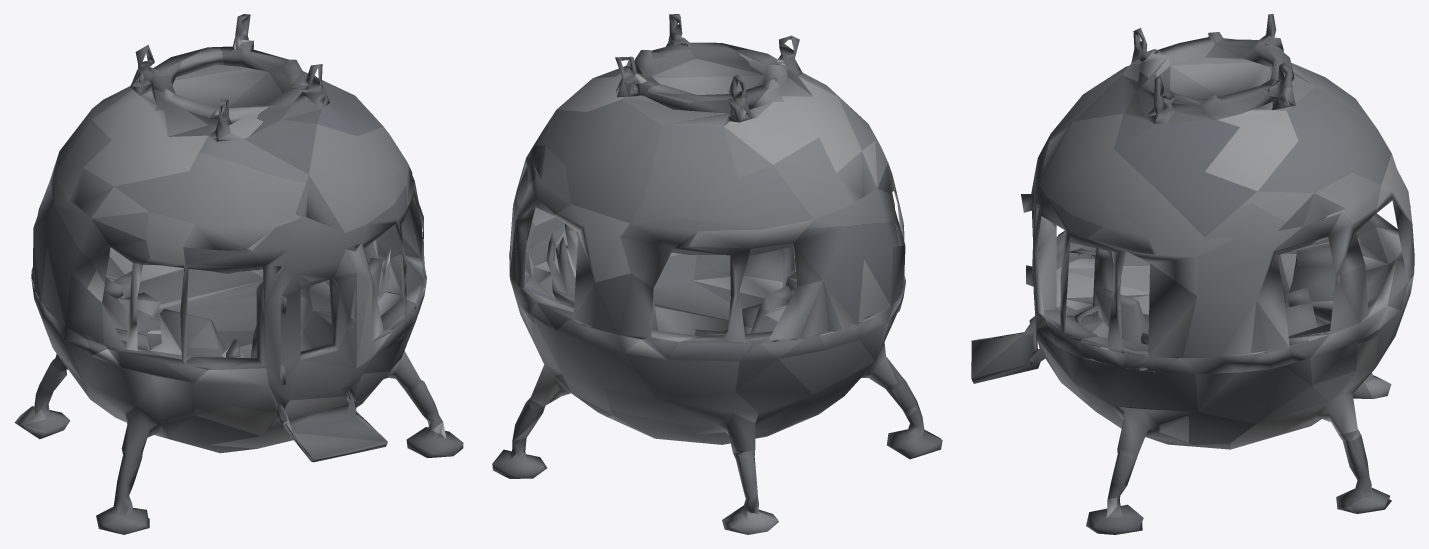
Rendered from stratos.glb.
The picture shows the model from 3 angles, left to right: view 1: azimuth 30°, elevation 25°; view 2: azimuth 150°, elevation 25°; view 3: azimuth 270°, elevation 25°; orthographic projection.
Parts seen in each view (by area): view 1: LO.001; view 2: LO.001; view 3: LO.001.
Boxes of the visible parts, left/top/right/bottom form: LO.001: left=14, top=14, right=463, bottom=534; LO.001: left=492, top=14, right=942, bottom=534; LO.001: left=971, top=14, right=1414, bottom=534.
Size of the model in its own units: 3.75 by 3.98 by 3.91.
Materials: 1 (1 with a texture image).
